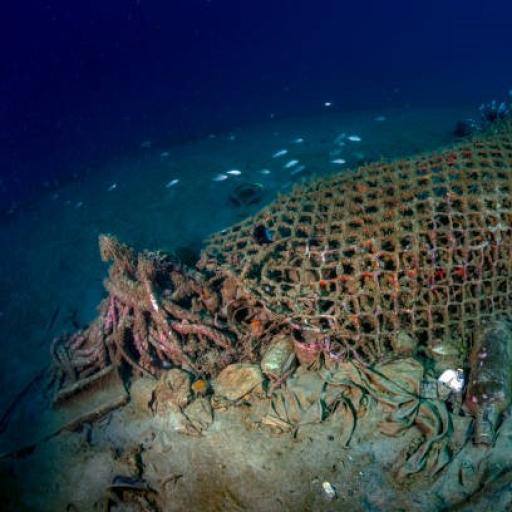net: (65, 128, 512, 398)
